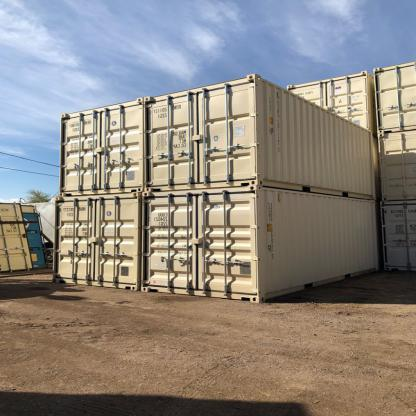Damage: (6, 213, 30, 243), (122, 107, 142, 118)
